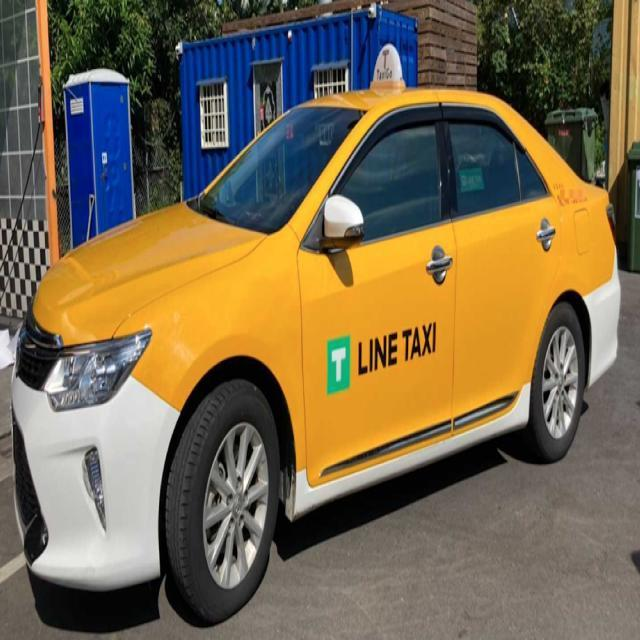taxi: (19, 37, 640, 630)
